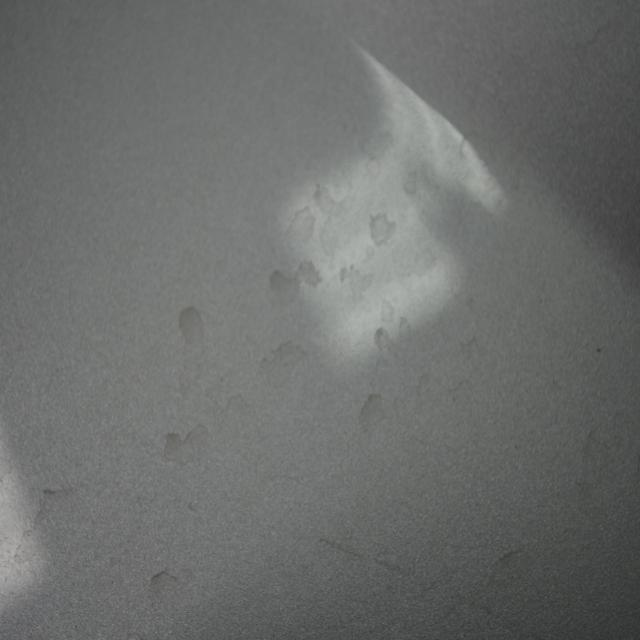water marks: (12, 480, 79, 571), (309, 184, 359, 258), (268, 258, 324, 310), (259, 338, 311, 392), (159, 425, 213, 474), (280, 199, 316, 254), (336, 262, 374, 312), (176, 301, 209, 354), (358, 388, 388, 436), (368, 208, 399, 251), (148, 569, 178, 608), (372, 323, 395, 372), (402, 167, 420, 196), (379, 295, 395, 325)
